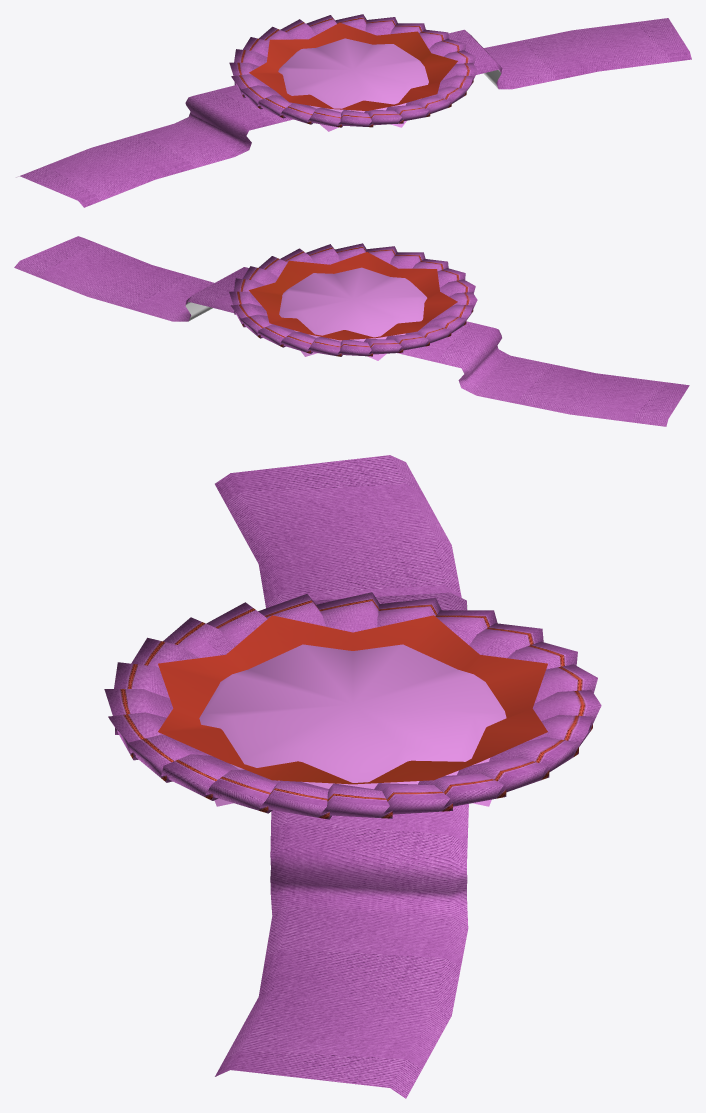
Rendered from stklib_pinkRibbon_a.glb.
The picture shows the model from 3 angles, top to bottom: view 1: azimuth 30°, elevation 25°; view 2: azimuth 150°, elevation 25°; view 3: azimuth 270°, elevation 25°; orthographic projection. The views are drawn at different scales.
Parts seen in each view (by area): view 1: stktex_pinkRibbonFabric_diff_a.jpg__; view 2: stktex_pinkRibbonFabric_diff_a.jpg__; view 3: stktex_pinkRibbonFabric_diff_a.jpg__.
Boxes of the visible parts, x1,y1,x2,y2 form: stktex_pinkRibbonFabric_diff_a.jpg__: (16, 14, 691, 207); stktex_pinkRibbonFabric_diff_a.jpg__: (14, 236, 689, 426); stktex_pinkRibbonFabric_diff_a.jpg__: (104, 455, 601, 1098).
Bounding box in the file's own units: 15.19 × 0.9482 × 5.02.
Materials: 2 (1 with a texture image).
